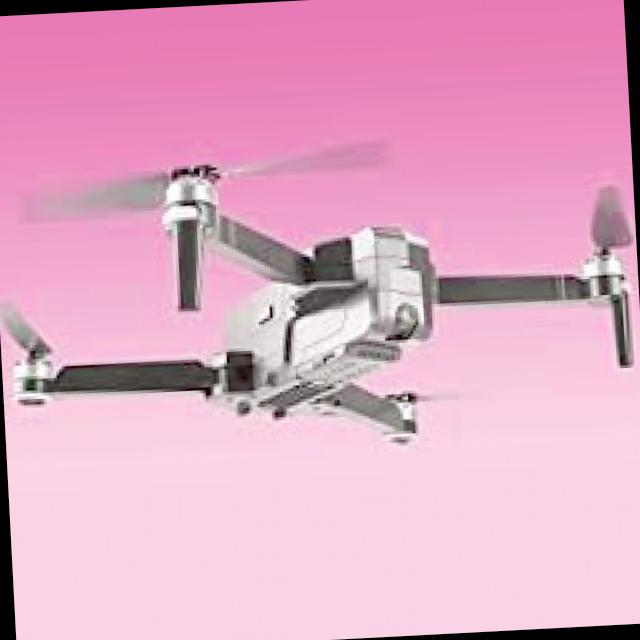drone: (0, 87, 640, 483)
